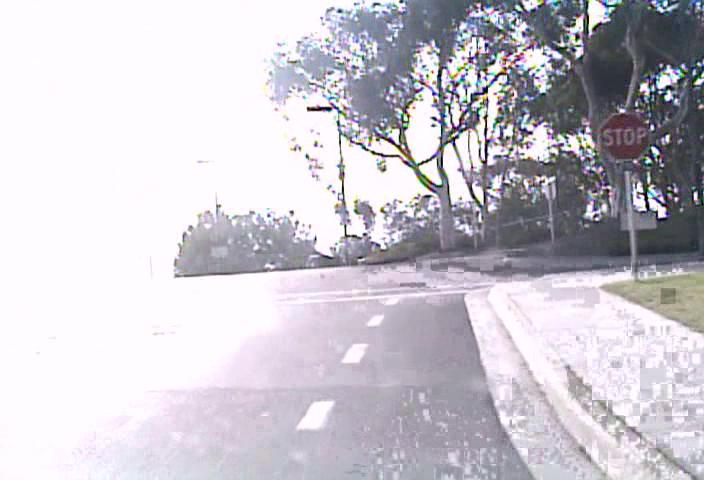stop: (598, 112, 650, 161)
